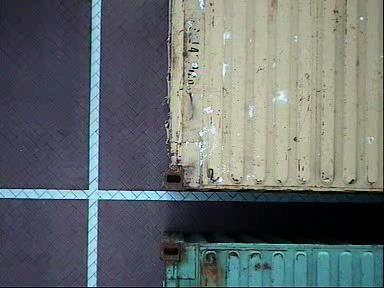groundmarker_2: (157, 75, 226, 117), (195, 211, 230, 269)
